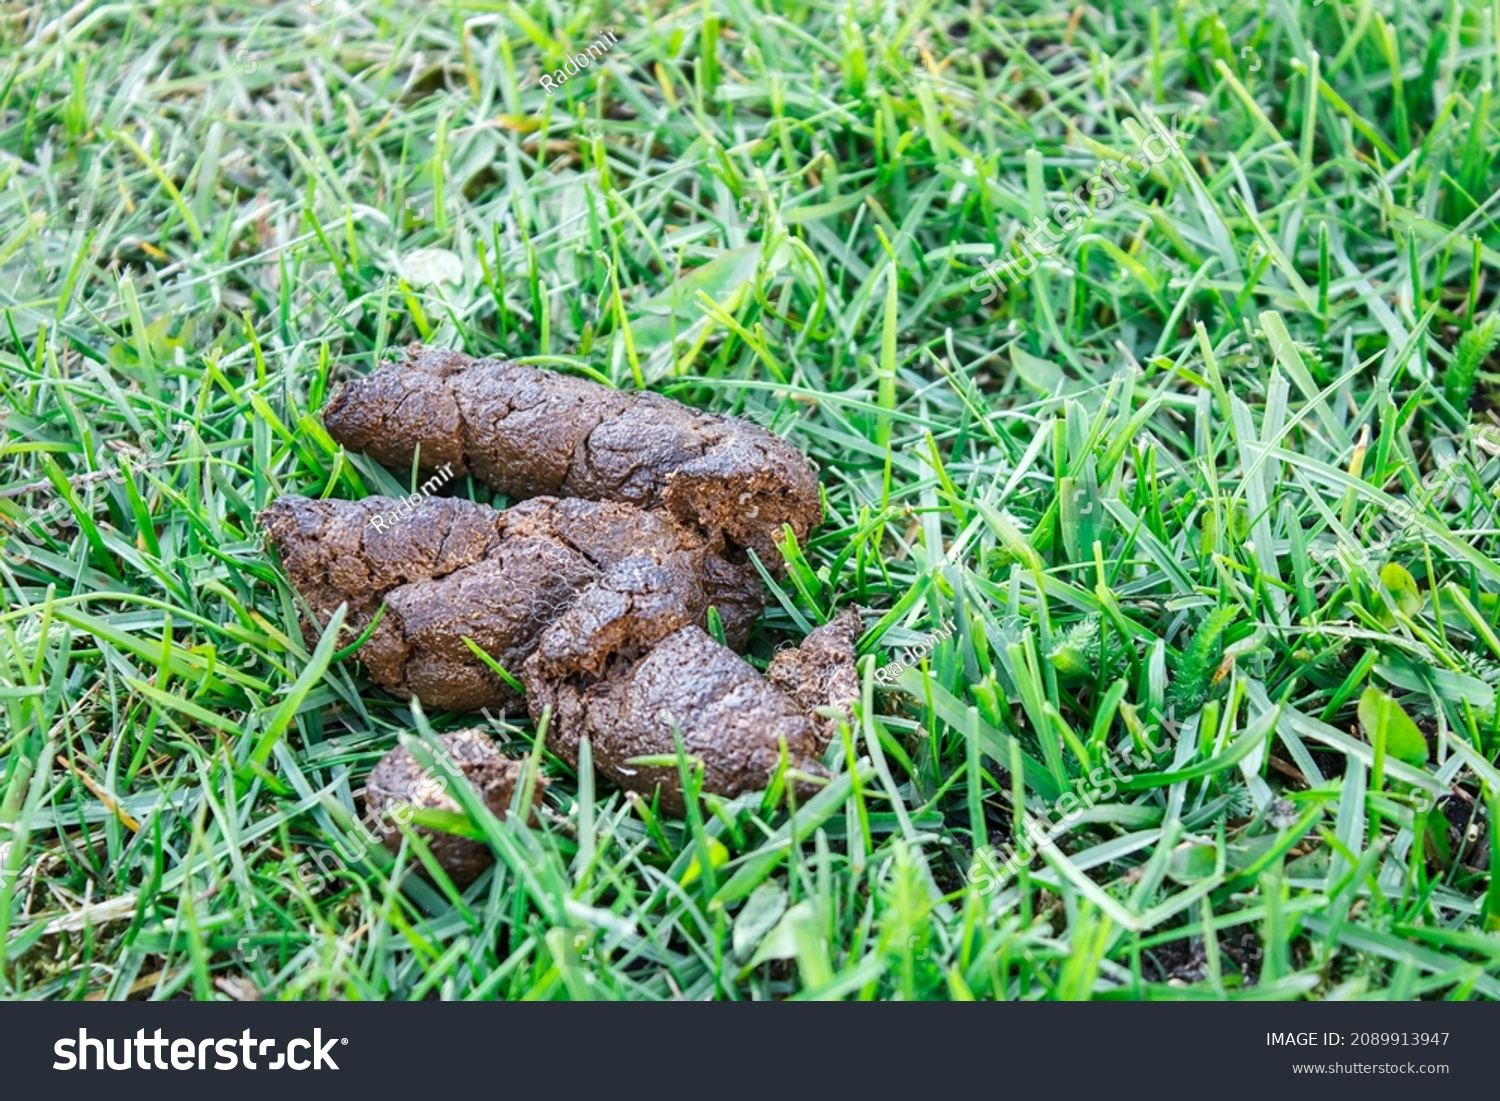Dog: (288, 344, 851, 818)
